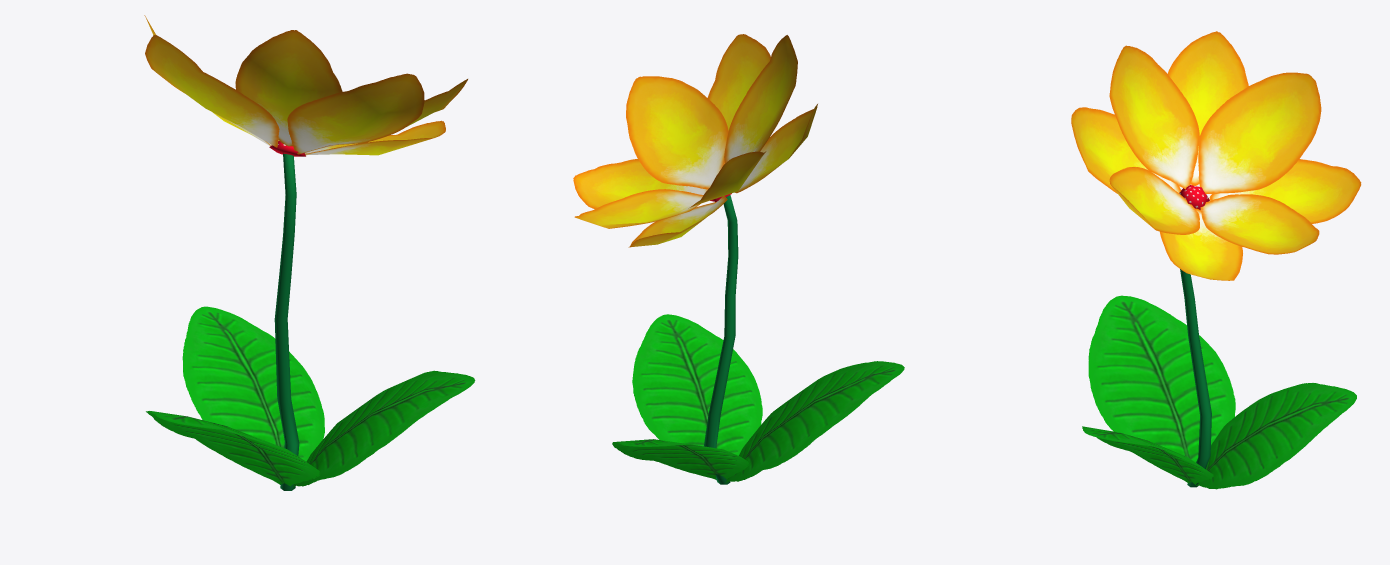
The model's file is OrangeFlowerWithStem_LOD.fbx.
3 renders of one model, left to right at view 1: azimuth 30°, elevation 25°; view 2: azimuth 150°, elevation 25°; view 3: azimuth 270°, elevation 25°, orthographic. The views are drawn at different scales.
Parts seen in each view (by area): view 1: FlowerWithStem_LOD0, FlowerWithStem_Static_LOD0; view 2: FlowerWithStem_LOD0, FlowerWithStem_Static_LOD0; view 3: FlowerWithStem_LOD0, FlowerWithStem_Static_LOD0.
Part boxes in pixels (box(x1,y1,x2,y2)): FlowerWithStem_LOD0: box(144, 15, 475, 486); FlowerWithStem_Static_LOD0: box(269, 141, 305, 490); FlowerWithStem_LOD0: box(573, 34, 904, 483); FlowerWithStem_Static_LOD0: box(704, 193, 738, 484); FlowerWithStem_LOD0: box(1071, 31, 1361, 489); FlowerWithStem_Static_LOD0: box(1179, 185, 1211, 487).
Size of what is drawn, in the model's own units: 271 by 298 by 233.
